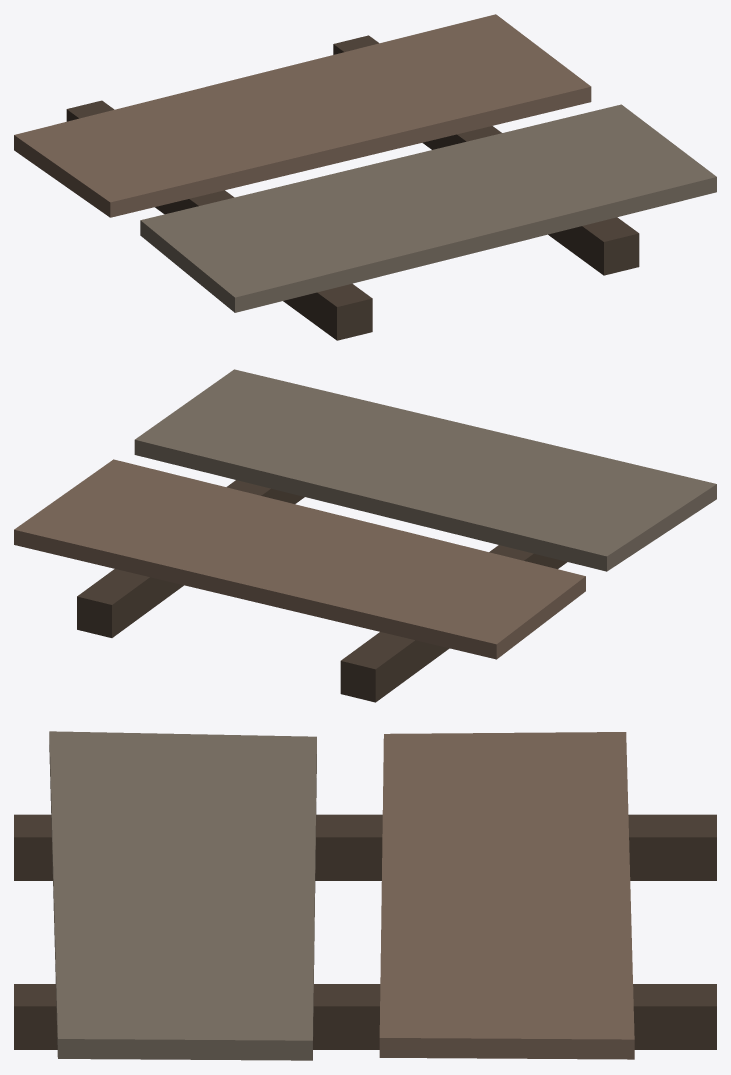
Rendered from Mines Runway 1M.glb.
3 views of the same model, one above another, from view 1: azimuth 30°, elevation 25°; view 2: azimuth 150°, elevation 25°; view 3: azimuth 270°, elevation 25° (orthographic). The views are drawn at different scales.
Visible parts, largest first — view 1: Mines Runway 1M; view 2: Mines Runway 1M; view 3: Mines Runway 1M.
Boxes of the visible parts, x1,y1,x2,y2 form: Mines Runway 1M: (14, 14, 716, 340); Mines Runway 1M: (14, 369, 716, 702); Mines Runway 1M: (14, 731, 716, 1060).
Size of what is drawn, in the model's own units: 1.04 by 0.1118 by 1.
1 material, 1 textured.
